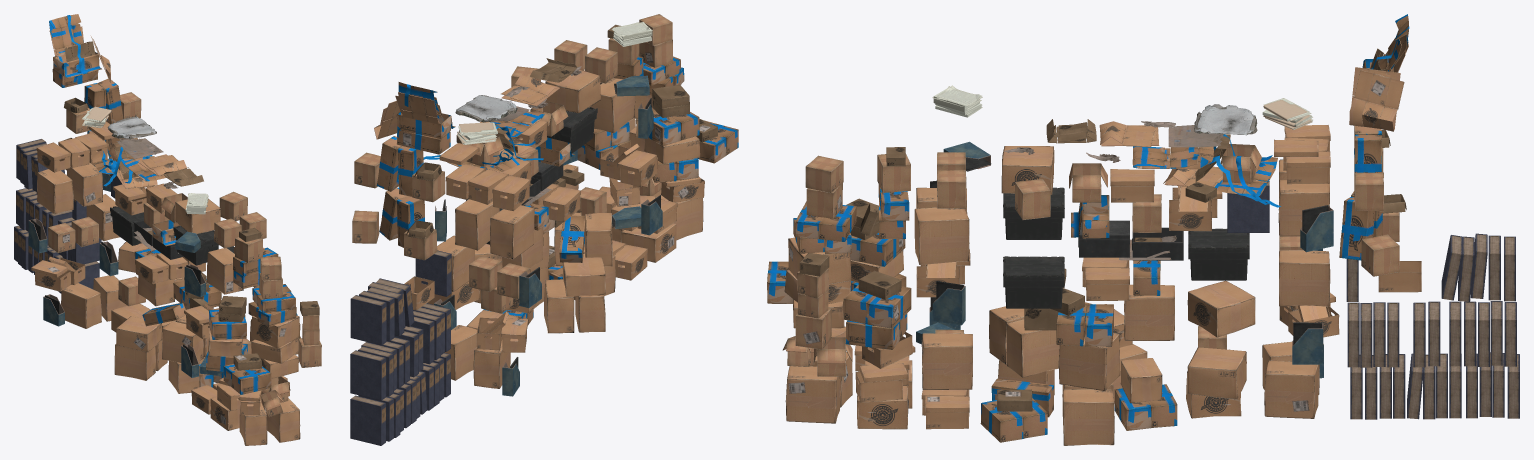
Rendered from CardBoardPKG.fbx.
The picture shows the model from 3 angles, left to right: view 1: azimuth 30°, elevation 25°; view 2: azimuth 150°, elevation 25°; view 3: azimuth 270°, elevation 25°; orthographic projection. The views are drawn at different scales.
Parts seen in each view (by area): view 1: SM_BoxesComposition_A.mo, SM_CardboardBox_Group_F.mo, SM_CardboardBox_Group_E.mo, SM_BoxesComposition_B.mo, SM_CardboardBox_E.mo, SM_Cardboardbox_Group_I.mo, SM_CardboardBox_Shelf_B.mo, SM_CardboardBox_Shelf_C.mo, SM_CardboardBox_Closed_E.mo, SM_Archive_Composition_A.mo, SM_Cardboardbox_Group_G.mo, SM_Archive_Composition_C.mo (+16 smaller); view 2: SM_BoxesComposition_A.mo, SM_BoxesComposition_B.mo, SM_CardboardBox_Group_F.mo, SM_CardboardBox_Group_E.mo, SM_Archive_Composition_A.mo, SM_Archive_Composition_B.mo, SM_Archive_Composition_C.mo, SM_CardboardBox_Closed_E.mo, SM_Cardboardbox_Group_I.mo, SM_CardboardBox_Closed_D.mo, SM_CardboardBox_Shelf_B.mo, SM_CardboardBox_D.mo (+16 smaller); view 3: SM_CardboardBox_Group_E.mo, SM_CardboardBox_Group_F.mo, SM_BoxesComposition_A.mo, SM_BoxesComposition_B.mo, SM_CardboardBox_Shelf_C.mo, SM_Archive_Composition_A.mo, SM_Archive_Composition_B.mo, SM_CardboardBox_Shelf_B.mo, SM_CardboardBox_E.mo, SM_Archive_Composition_C.mo, SM_CardboardBox_D.mo, SM_Cardboardbox_Group_H.mo (+22 smaller).
Part boxes in pixels (x1=…): SM_BoxesComposition_A.mo: x1=28, y1=106, x2=126, y2=328; SM_CardboardBox_Group_F.mo: x1=206, y1=256, x2=321, y2=394; SM_CardboardBox_Group_E.mo: x1=114, y1=279, x2=223, y2=393; SM_BoxesComposition_B.mo: x1=175, y1=193, x2=266, y2=414; SM_CardboardBox_E.mo: x1=239, y1=376, x2=300, y2=445; SM_Cardboardbox_Group_I.mo: x1=49, y1=14, x2=110, y2=87; SM_CardboardBox_Shelf_B.mo: x1=173, y1=191, x2=247, y2=290; SM_CardboardBox_Shelf_C.mo: x1=110, y1=206, x2=184, y2=332; SM_CardboardBox_Closed_E.mo: x1=64, y1=78, x2=141, y2=133; SM_Archive_Composition_A.mo: x1=16, y1=188, x2=101, y2=264; SM_Cardboardbox_Group_G.mo: x1=233, y1=228, x2=278, y2=288; SM_Archive_Composition_C.mo: x1=16, y1=139, x2=86, y2=220; SM_BoxesComposition_A.mo: x1=434, y1=122, x2=541, y2=396; SM_BoxesComposition_B.mo: x1=554, y1=22, x2=662, y2=280; SM_CardboardBox_Group_F.mo: x1=577, y1=14, x2=738, y2=182; SM_CardboardBox_Group_E.mo: x1=474, y1=212, x2=615, y2=333; SM_Archive_Composition_A.mo: x1=350, y1=303, x2=450, y2=400; SM_Archive_Composition_B.mo: x1=350, y1=353, x2=450, y2=445; SM_Archive_Composition_C.mo: x1=350, y1=250, x2=451, y2=345; SM_CardboardBox_Closed_E.mo: x1=354, y1=136, x2=445, y2=202; SM_Cardboardbox_Group_I.mo: x1=374, y1=82, x2=455, y2=154; SM_CardboardBox_Closed_D.mo: x1=352, y1=187, x2=437, y2=260; SM_CardboardBox_Shelf_B.mo: x1=511, y1=66, x2=600, y2=187; SM_CardboardBox_D.mo: x1=599, y1=177, x2=677, y2=262; SM_CardboardBox_Group_E.mo: x1=980, y1=288, x2=1177, y2=445; SM_CardboardBox_Group_F.mo: x1=767, y1=155, x2=911, y2=349; SM_BoxesComposition_A.mo: x1=1262, y1=98, x2=1339, y2=418; SM_BoxesComposition_B.mo: x1=914, y1=85, x2=991, y2=429; SM_CardboardBox_Shelf_C.mo: x1=1186, y1=228, x2=1255, y2=418; SM_Archive_Composition_A.mo: x1=1347, y1=301, x2=1516, y2=367; SM_Archive_Composition_B.mo: x1=1350, y1=352, x2=1519, y2=419; SM_CardboardBox_Shelf_B.mo: x1=1001, y1=146, x2=1066, y2=308; SM_CardboardBox_E.mo: x1=782, y1=326, x2=852, y2=423; SM_Archive_Composition_C.mo: x1=1346, y1=233, x2=1515, y2=301; SM_CardboardBox_D.mo: x1=854, y1=332, x2=915, y2=429; SM_Cardboardbox_Group_H.mo: x1=1163, y1=134, x2=1280, y2=207.
Size of the model in its own units: 217 by 439 by 779.
